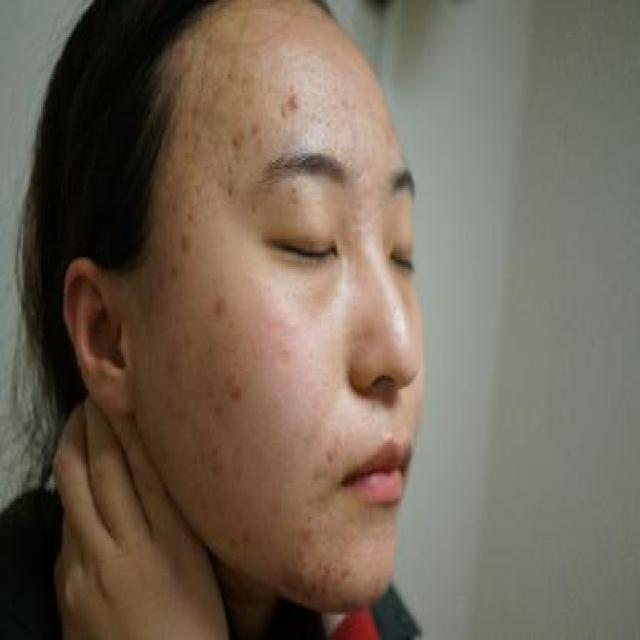Acne: (203, 274, 245, 322), (217, 357, 257, 407), (168, 214, 206, 258), (282, 88, 312, 124), (217, 129, 248, 152), (248, 115, 262, 152)
